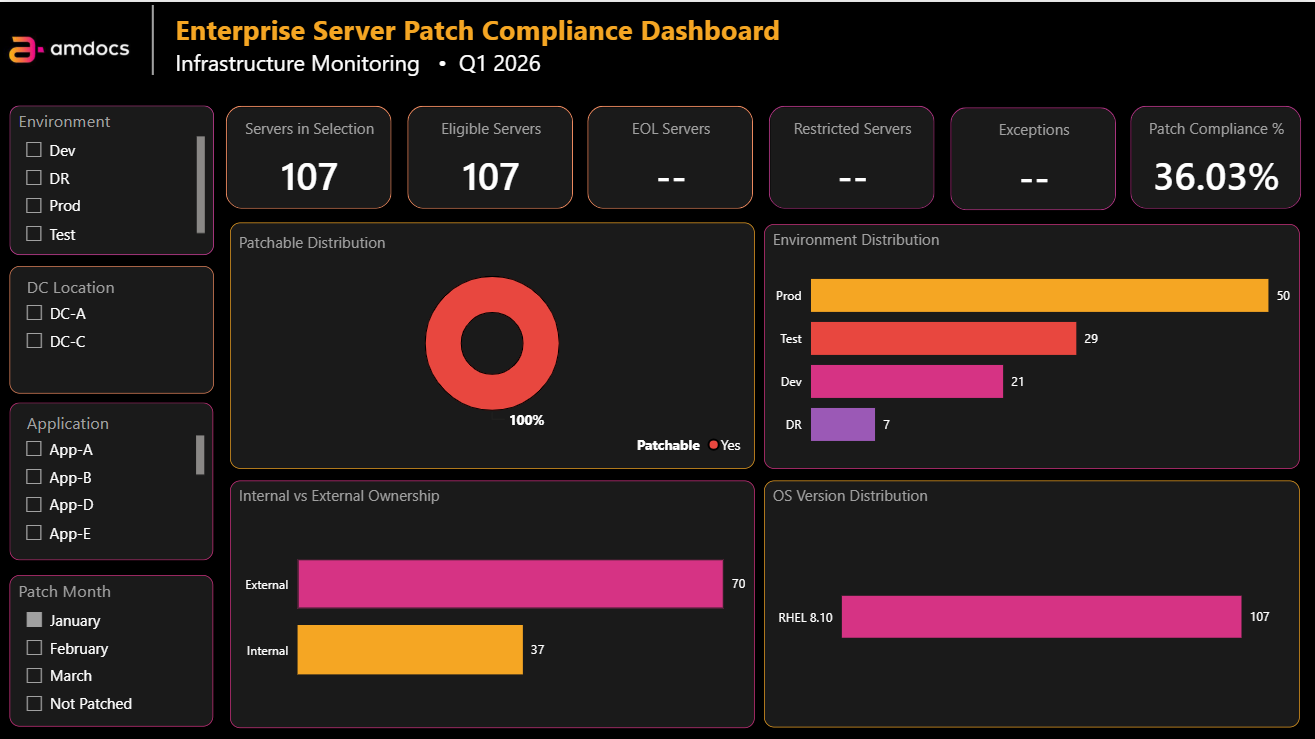

The dashboard page shown, as its layout file describes it:
{"tool":"powerbi","page":{"name":"Page 1","canvas":[1280,720],"ordinal":0},"visuals":[{"type":"image","box":[0,0,140.8,89.3],"z":0},{"type":"cardVisual","title":"Servers","fields":{"Data":["Patch Linux.Total Servers"]},"box":[208.5,88.9,185,124],"z":1000},{"type":"donutChart","title":"Patchable Distribution","fields":{"Category":["Patch Linux.Patchable"],"Y":["Count(Patch Linux.Host Name)"]},"box":[224.1,215,510.3,239.2],"z":2000},{"type":"cardVisual","fields":{"Data":["Patch Linux.Eligible Servers"]},"box":[384.4,88.9,185,124],"z":3000},{"type":"clusteredBarChart","title":"Environment Distribution","fields":{"Category":["Patch Linux.Env"],"Y":["CountNonNull(Patch Linux.Host Name)"]},"box":[743.7,215.5,520.6,238.3],"z":4000},{"type":"cardVisual","fields":{"Data":["Patch Linux.Restricted Servers"]},"box":[736.3,89.5,185,124.5],"z":5000},{"type":"clusteredBarChart","title":"Internal vs External Ownership","fields":{"Category":["Patch Linux.App_managed_internal or external"],"Y":["CountNonNull(Patch Linux.Host Name)"]},"box":[224.1,464.9,510.3,240.8],"z":6000},{"type":"cardVisual","fields":{"Data":["Patch Linux.EOL Servers"]},"box":[560.4,89.5,185,124.5],"z":7000},{"type":"clusteredBarChart","title":"OS Version Distribution","fields":{"Y":["CountNonNull(Patch Linux.Host Name)"],"Category":["Patch Linux.Current Version"]},"box":[743.7,464.4,520.6,239.8],"z":8000},{"type":"cardVisual","fields":{"Data":["Patch Linux.Exceptions"]},"box":[912.3,91.1,185,124.5],"z":9000},{"type":"slicer","title":"Environment","fields":{"Values":["Patch Linux.Env"]},"box":[10.6,99.9,198.4,145.4],"z":10000},{"type":"slicer","fields":{"Values":["Patch Linux.DC Location"]},"box":[10.6,255.9,198.4,124.2],"z":11000},{"type":"slicer","fields":{"Values":["Patch Linux.Application"]},"box":[10.2,389.2,198.3,153.1],"z":12000},{"type":"textbox","box":[166.6,3,660.2,86.3],"z":13000},{"type":"shape","box":[0,3,299,68.1],"z":14000},{"type":"slicer","title":"Patch Month","fields":{"Values":["Patch Linux.Patch Month"]},"box":[10.2,556.9,198.3,147.2],"z":15000},{"type":"cardVisual","fields":{"Data":["Patch Linux.Patch Compliance %"]},"box":[1088.3,89.5,190,124.5],"z":16000}]}

Visuals, with their boxes in screenshot pixels (x1, y1, x2, y2), scaled from the page's 1280x720 canvas onto the 1315x739 screenshot:
image: box=[0, 0, 145, 92]
"Servers" cardVisual: box=[214, 91, 404, 219]
"Patchable Distribution" donutChart: box=[230, 221, 754, 466]
cardVisual - Patch Linux.Eligible Servers: box=[395, 91, 585, 219]
"Environment Distribution" clusteredBarChart: box=[764, 221, 1299, 466]
cardVisual - Patch Linux.Restricted Servers: box=[756, 92, 946, 220]
"Internal vs External Ownership" clusteredBarChart: box=[230, 477, 754, 724]
cardVisual - Patch Linux.EOL Servers: box=[576, 92, 766, 220]
"OS Version Distribution" clusteredBarChart: box=[764, 477, 1299, 723]
cardVisual - Patch Linux.Exceptions: box=[937, 94, 1127, 221]
"Environment" slicer: box=[11, 103, 215, 252]
slicer - Patch Linux.DC Location: box=[11, 263, 215, 390]
slicer - Patch Linux.Application: box=[10, 399, 214, 557]
textbox: box=[171, 3, 849, 92]
shape: box=[0, 3, 307, 73]
"Patch Month" slicer: box=[10, 572, 214, 723]
cardVisual - Patch Linux.Patch Compliance %: box=[1118, 92, 1313, 220]
